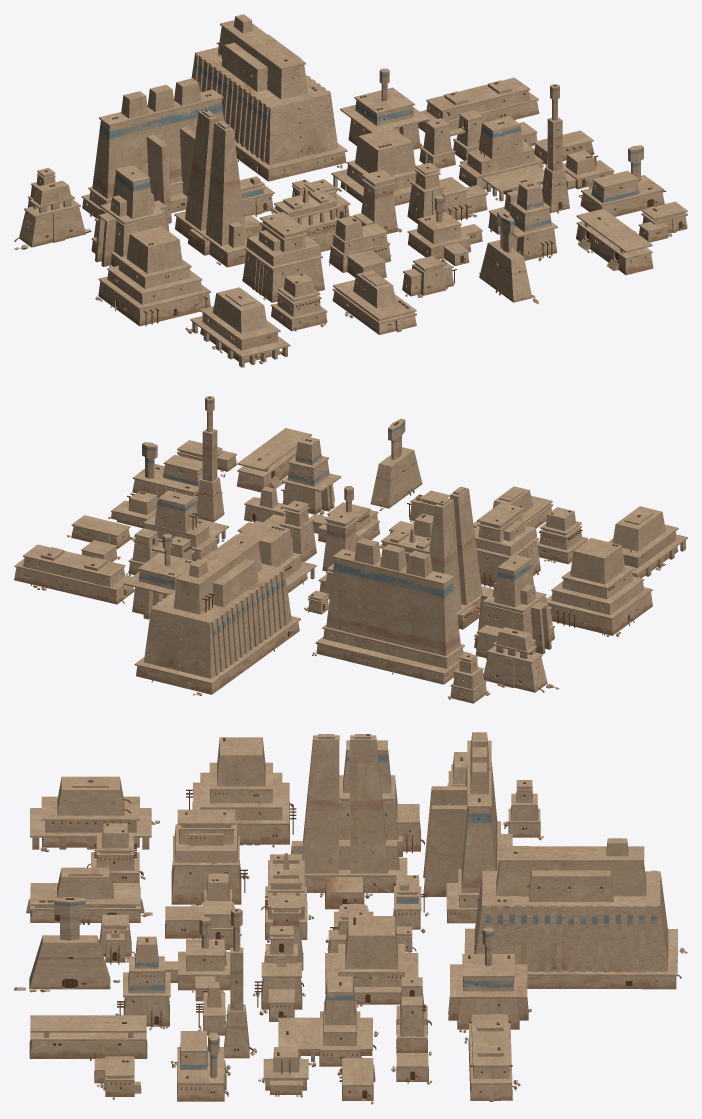
File: building.fbx
3 renders of one model, top to bottom at view 1: azimuth 30°, elevation 25°; view 2: azimuth 150°, elevation 25°; view 3: azimuth 270°, elevation 25°, orthographic. The views are drawn at different scales.
Parts seen in each view (by area): view 1: building; view 2: building; view 3: building.
Boxes of the visible parts, bbox=[...] form: building: bbox=[14, 14, 687, 367]; building: bbox=[14, 396, 687, 703]; building: bbox=[14, 732, 687, 1104].
Size of the model in its own units: 910 by 209 by 837.
1 material, 1 textured.
